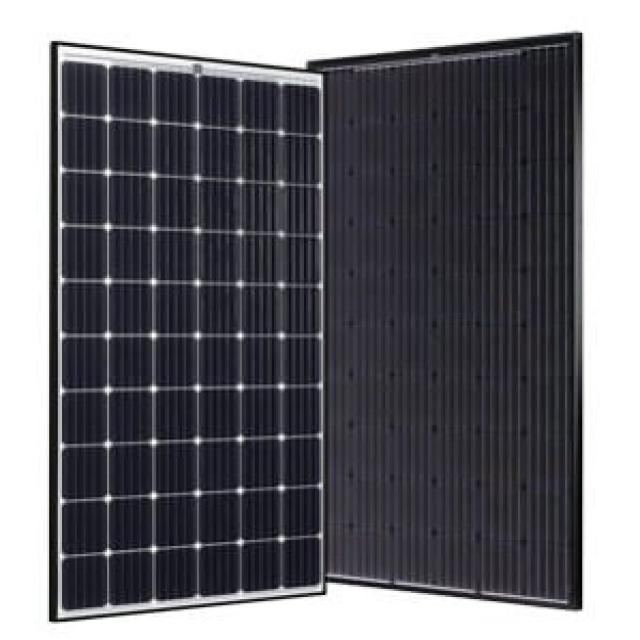clean-solar-panel: (56, 47, 321, 617)
